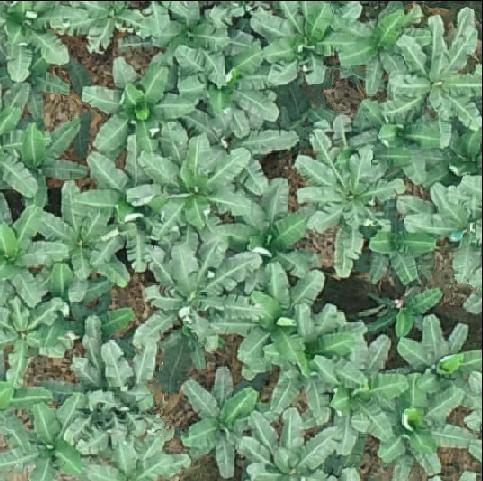Banana-plant: (294, 128, 405, 282), (140, 247, 261, 355), (396, 7, 483, 141), (242, 262, 333, 377), (40, 182, 129, 297), (316, 334, 405, 448), (74, 341, 166, 451), (130, 146, 253, 226), (250, 0, 359, 88), (82, 54, 189, 143), (176, 40, 279, 130), (262, 321, 365, 409), (408, 178, 483, 289), (230, 177, 314, 276), (335, 1, 427, 91), (384, 379, 469, 475), (184, 366, 258, 473), (152, 0, 247, 83), (200, 110, 298, 190), (0, 193, 67, 307), (397, 317, 483, 402), (0, 393, 81, 481), (8, 119, 87, 205), (0, 0, 85, 79), (240, 410, 334, 481), (364, 210, 433, 289), (0, 294, 56, 378), (412, 124, 483, 183), (76, 0, 145, 53)
